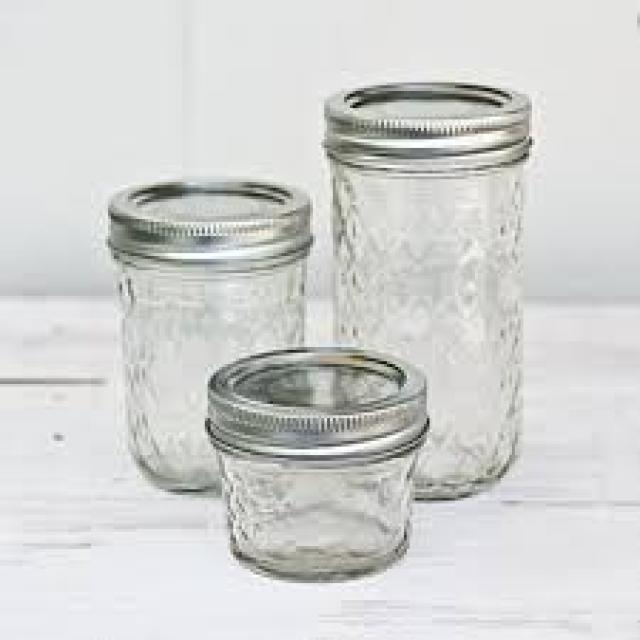glass: (327, 156, 518, 498), (111, 254, 301, 487), (216, 447, 418, 578)
metal: (202, 344, 424, 467), (103, 176, 308, 259), (322, 77, 527, 156)
